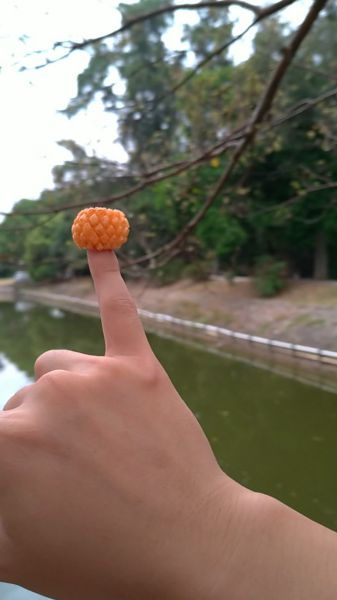eggs: (71, 205, 130, 250)
